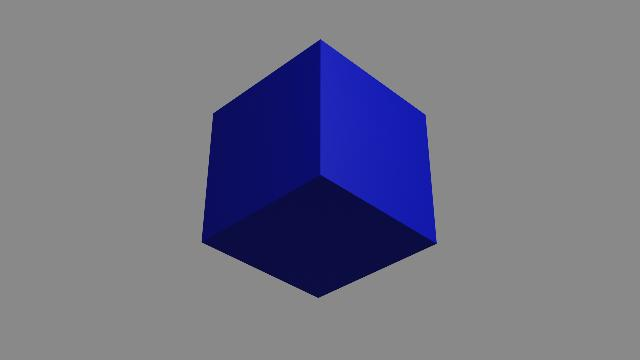Cube: (197, 35, 443, 306)
